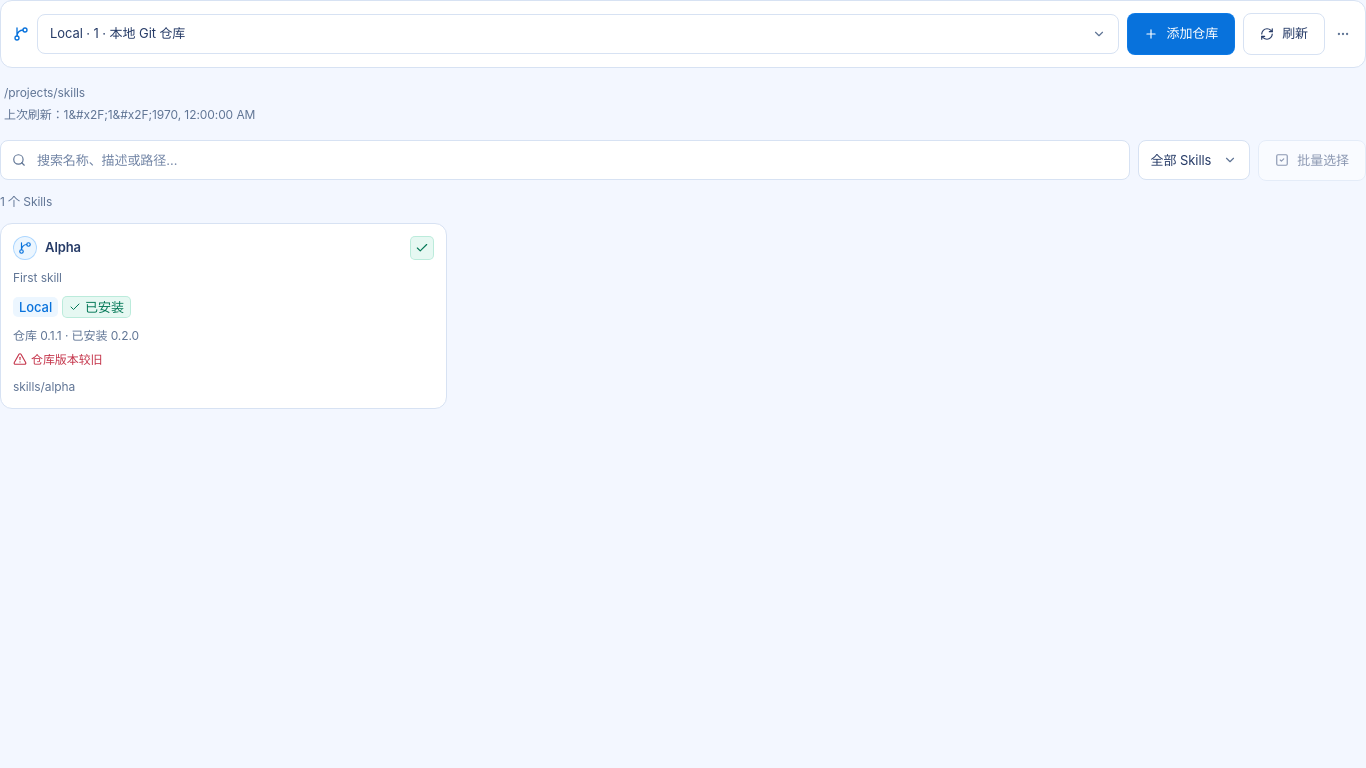
Test: syncs a newer installed Skill to a local repository and updates the open details
Click the button "Alpha": x=63, y=248 [45, 238, 81, 258]
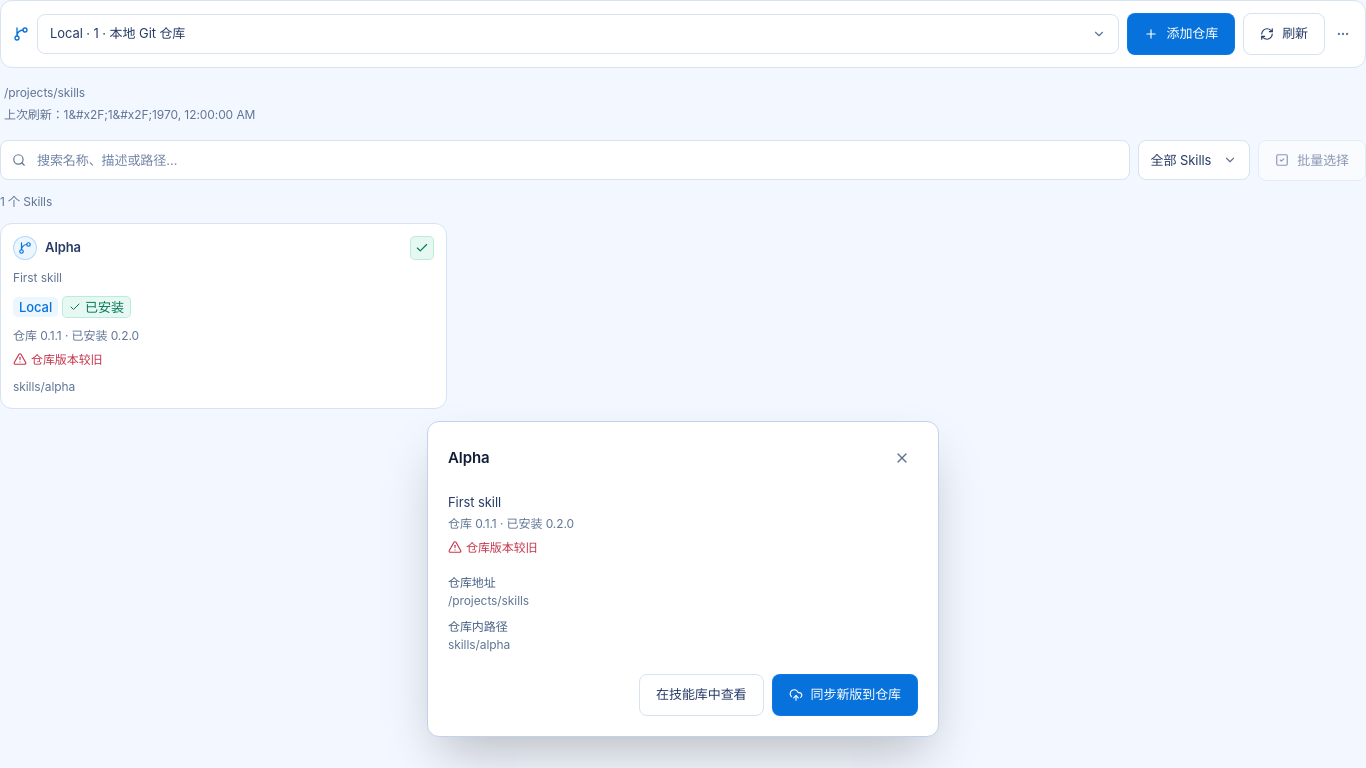
Click the button "同步新版到仓库": x=845, y=695 [772, 674, 918, 716]
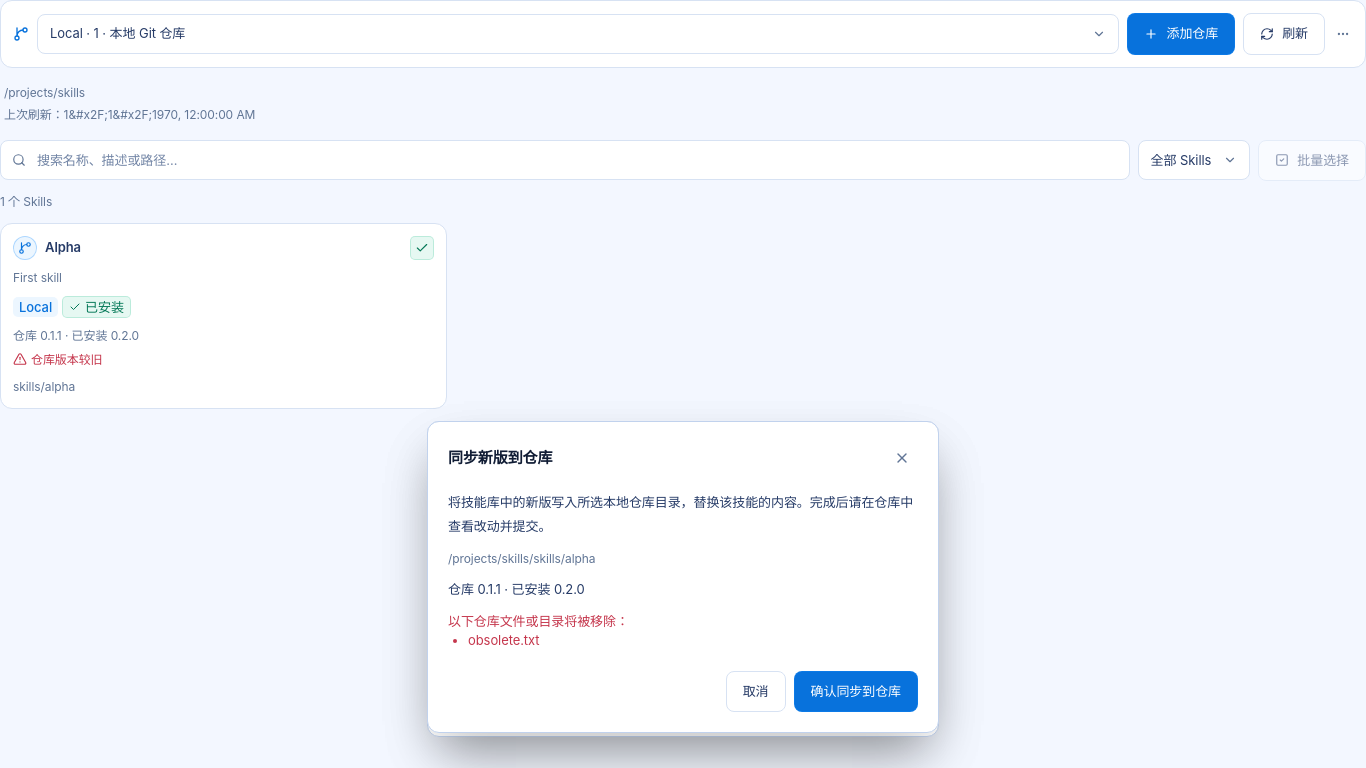
Check: the text "obsolete.txt" is shown, box [468, 632, 540, 648]
Click the button "确认同步到仓库": x=856, y=691 [794, 670, 918, 712]
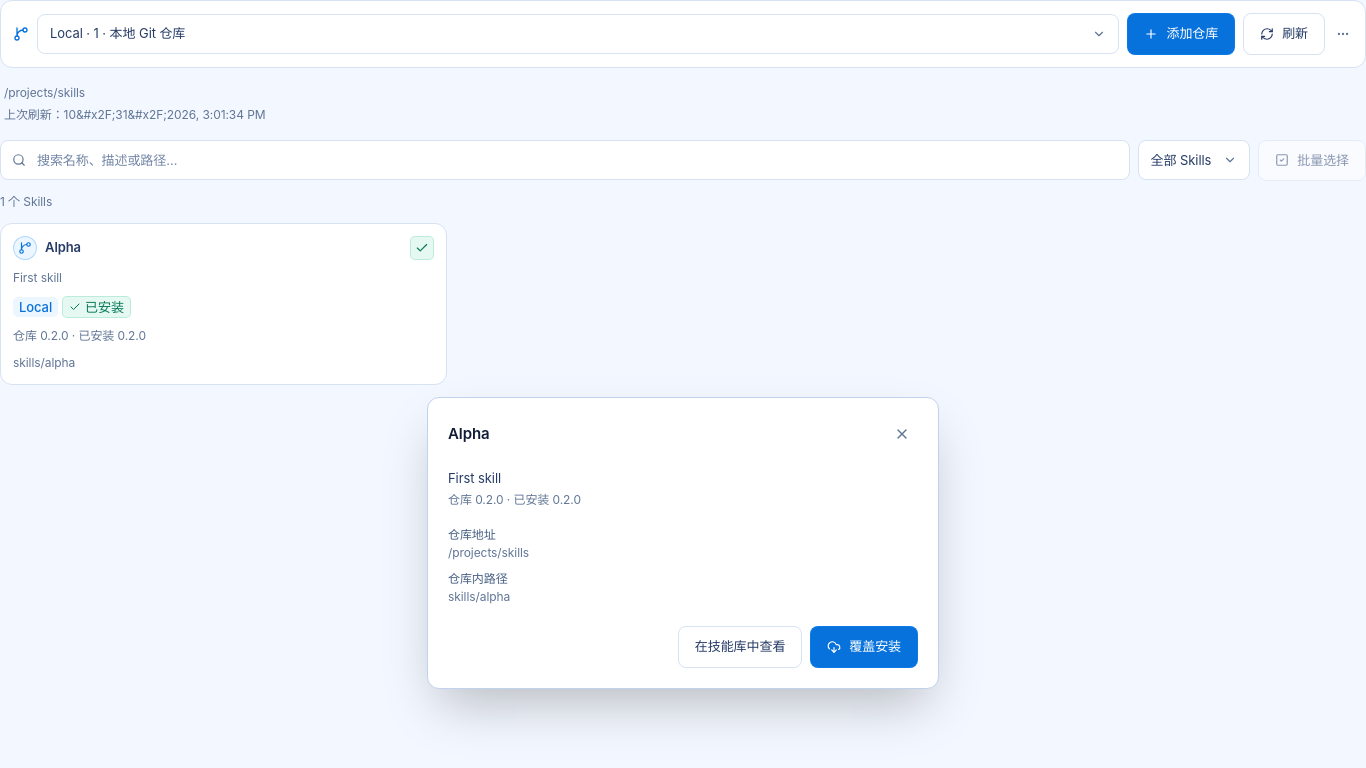
Check: the dialog shows "仓库 0.2.0", box [448, 492, 504, 507]
Check: the text "仓库版本较旧" is gone
